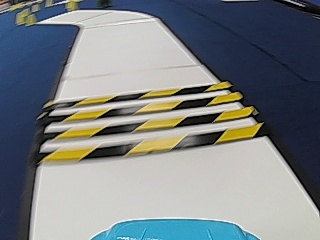bump: (60, 84, 227, 159)
